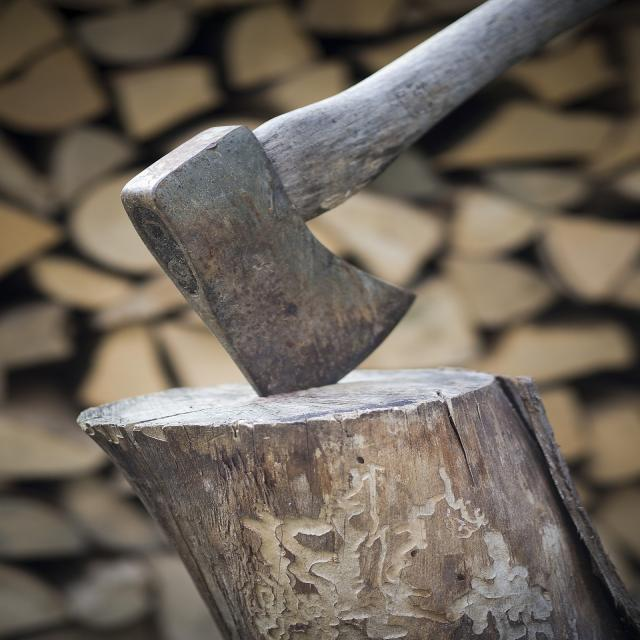Axe: (124, 1, 605, 396)
